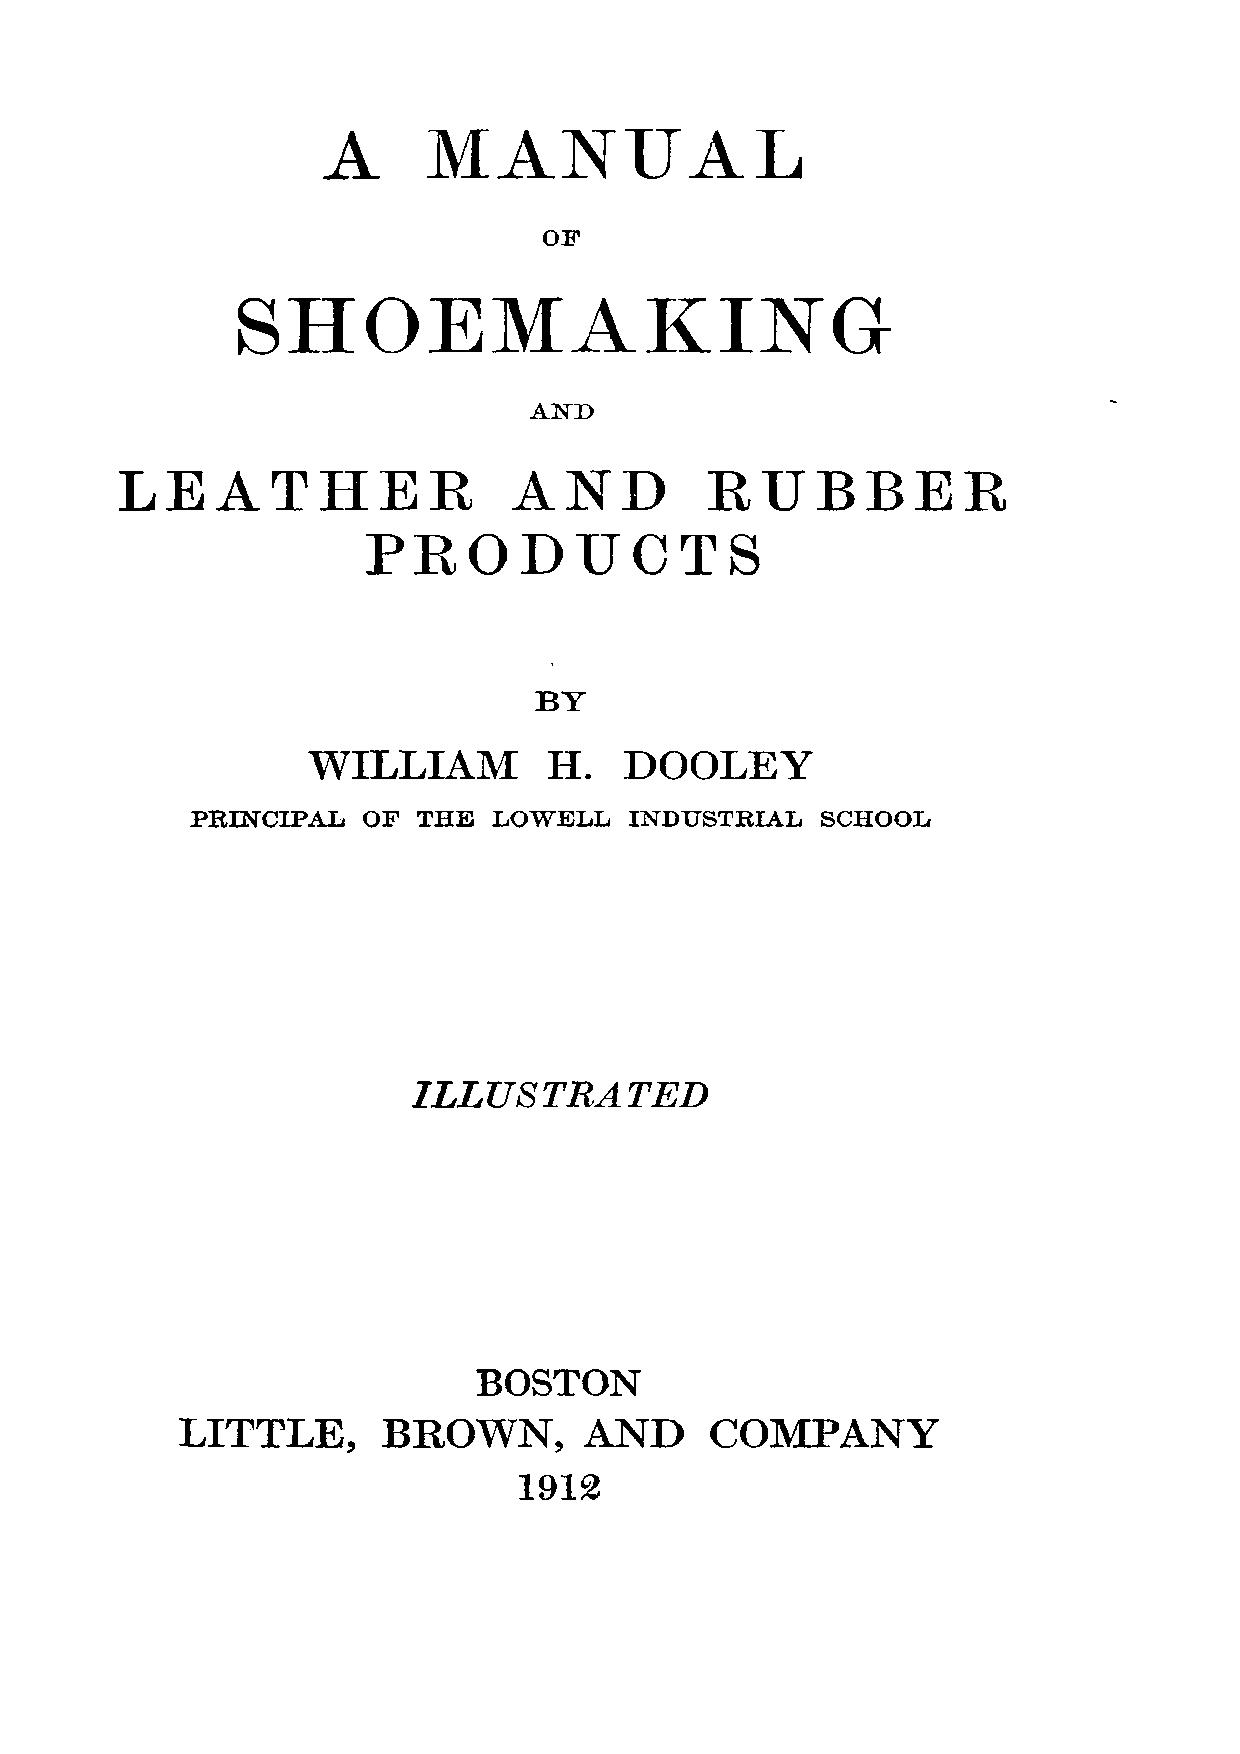author: (305, 687, 815, 784)
title: (113, 126, 1006, 578)
